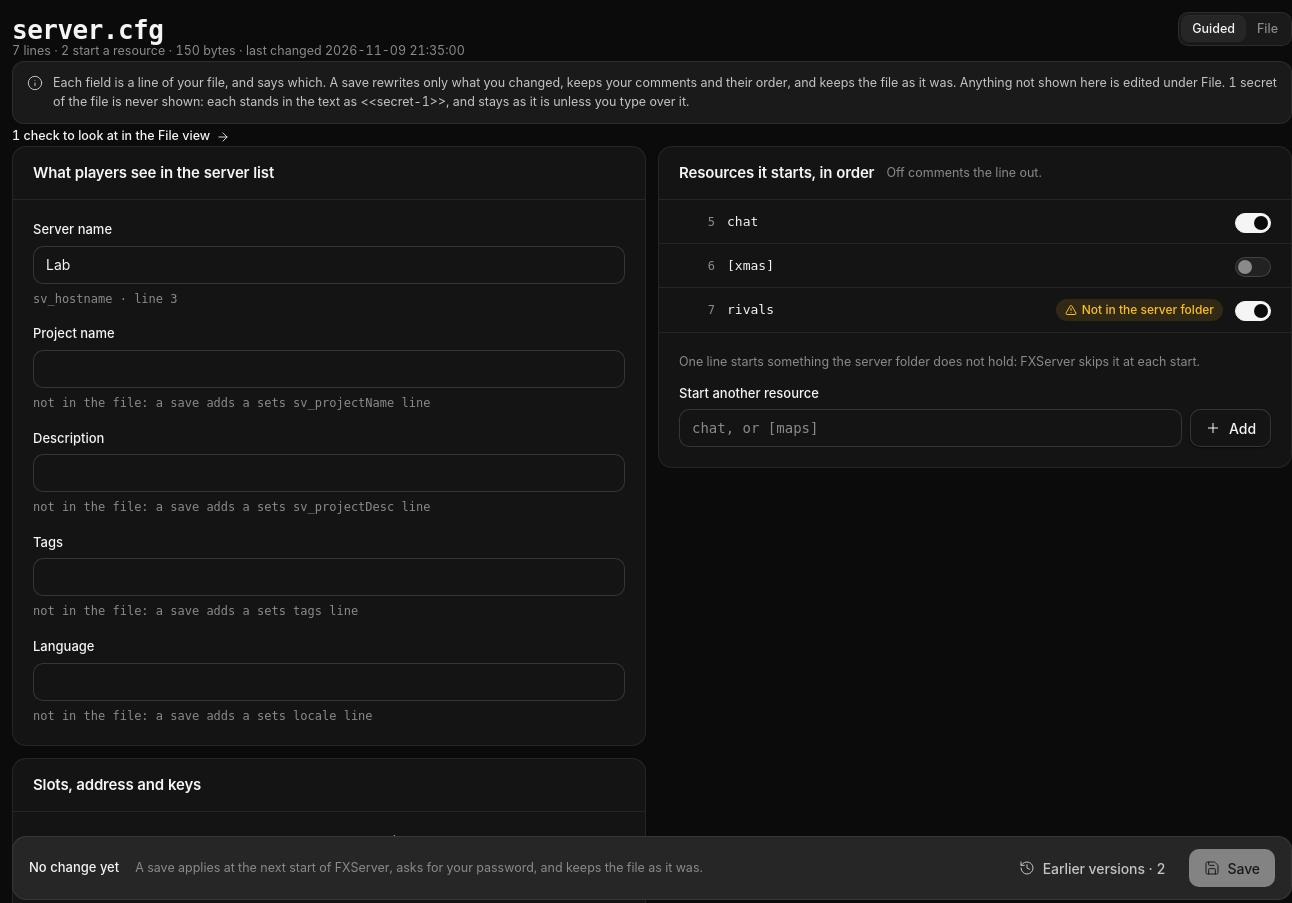
Test: CfgPage › should save the text with what the fields changed written into it, and nothing else
Replace the text in the field labelled "Server name" with "Café RP" at {"x": 329, "y": 264}, box [33, 246, 625, 284]
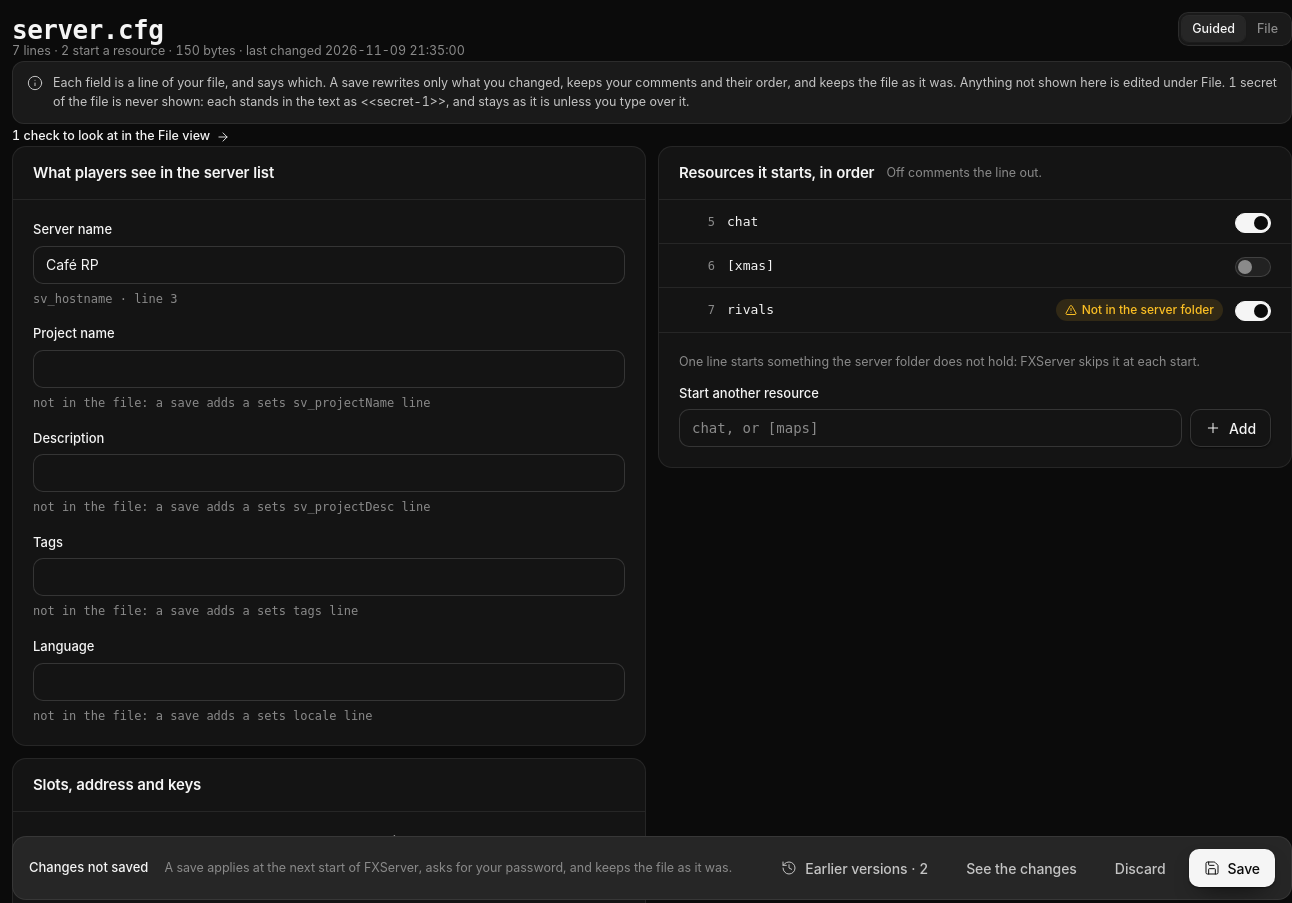
Click the switch named "Start [xmas]".
click(1253, 266)  # box [1235, 256, 1271, 276]
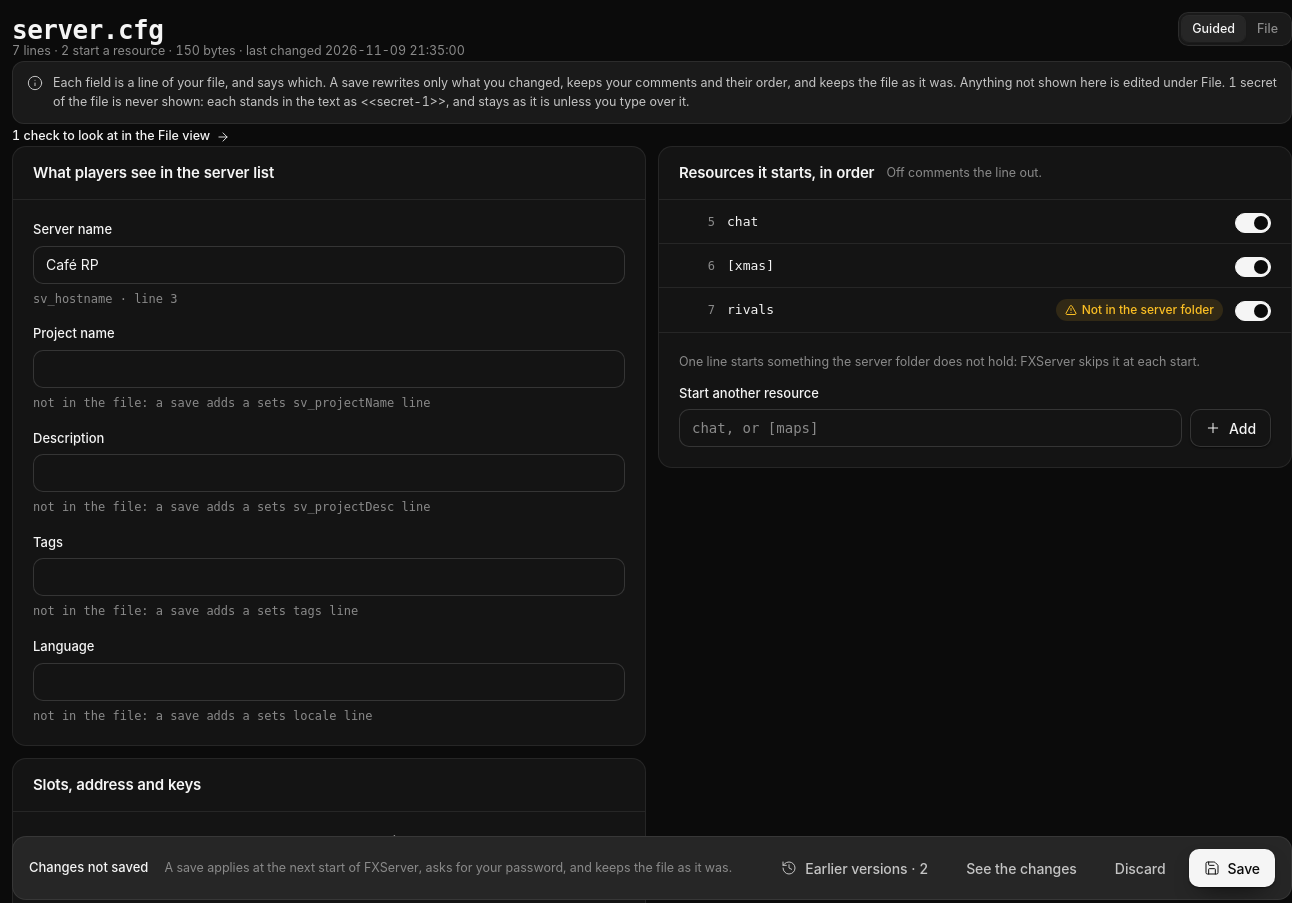
Click the switch named "Start rivals".
click(1253, 311)  # box [1235, 301, 1271, 321]
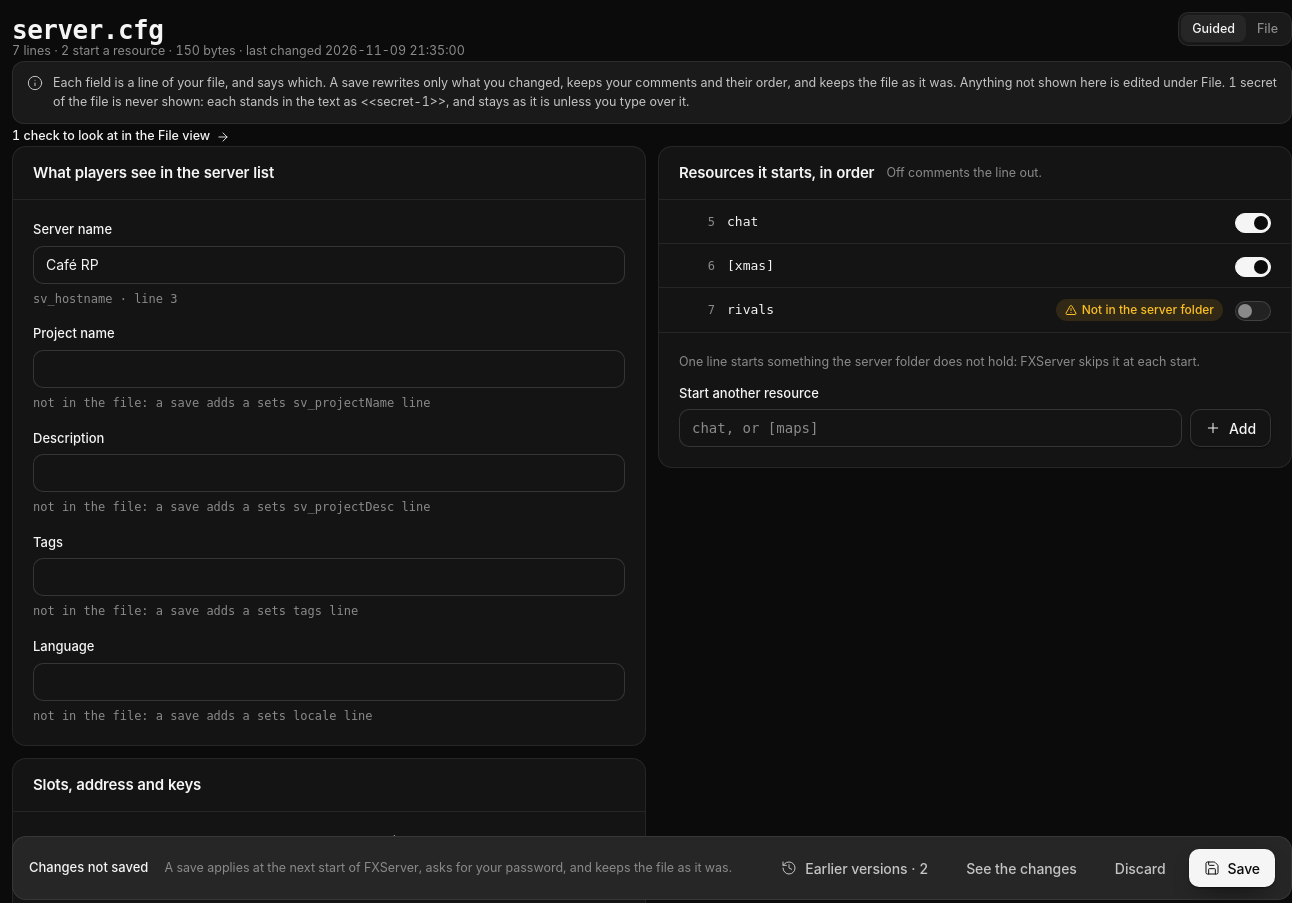
Type "[maps]" into the field labelled "Start another resource".
click(931, 428); type("[maps]")  # box [679, 409, 1182, 447]
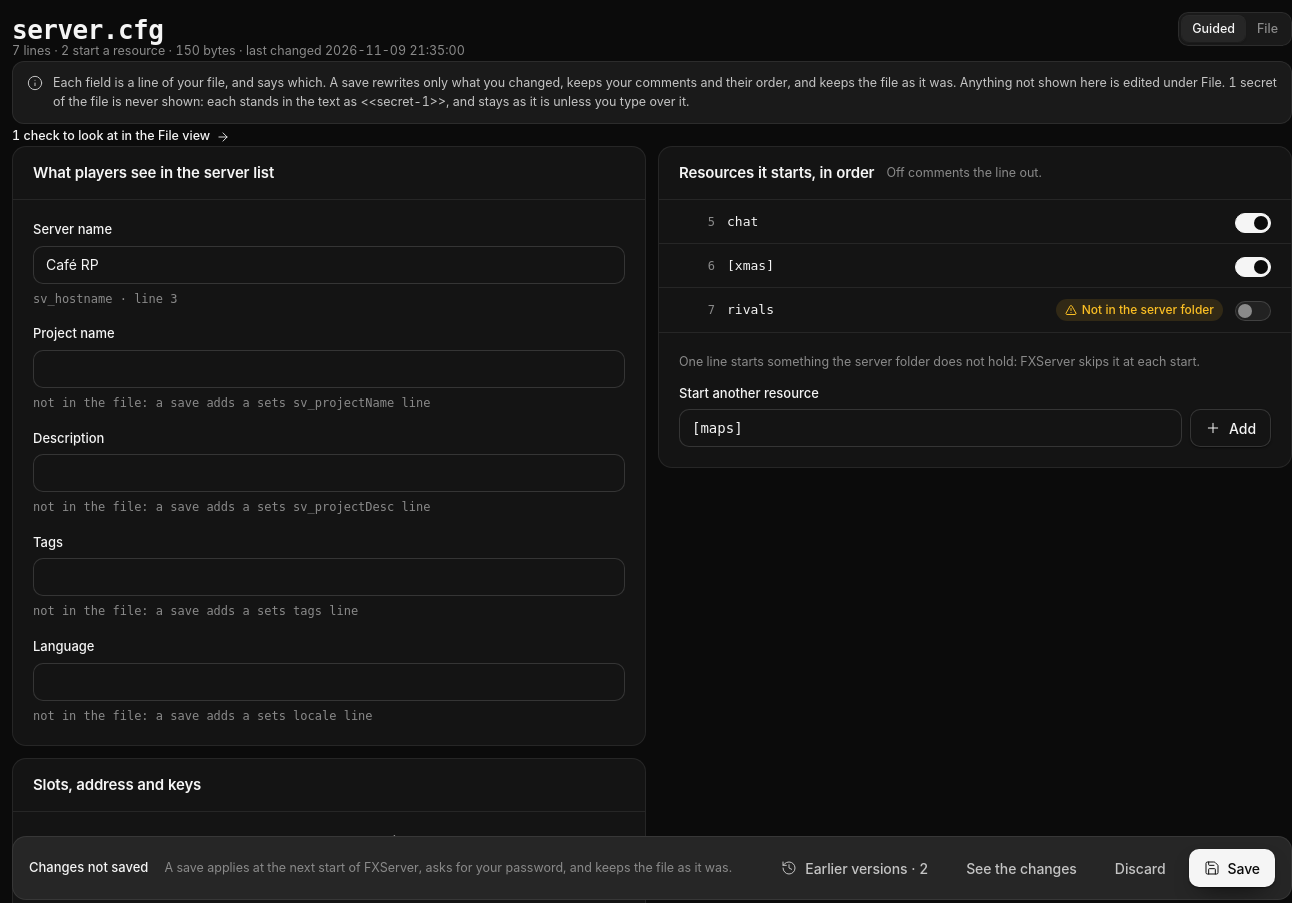
Click the button "Add".
click(1231, 428)  # box [1190, 409, 1271, 447]
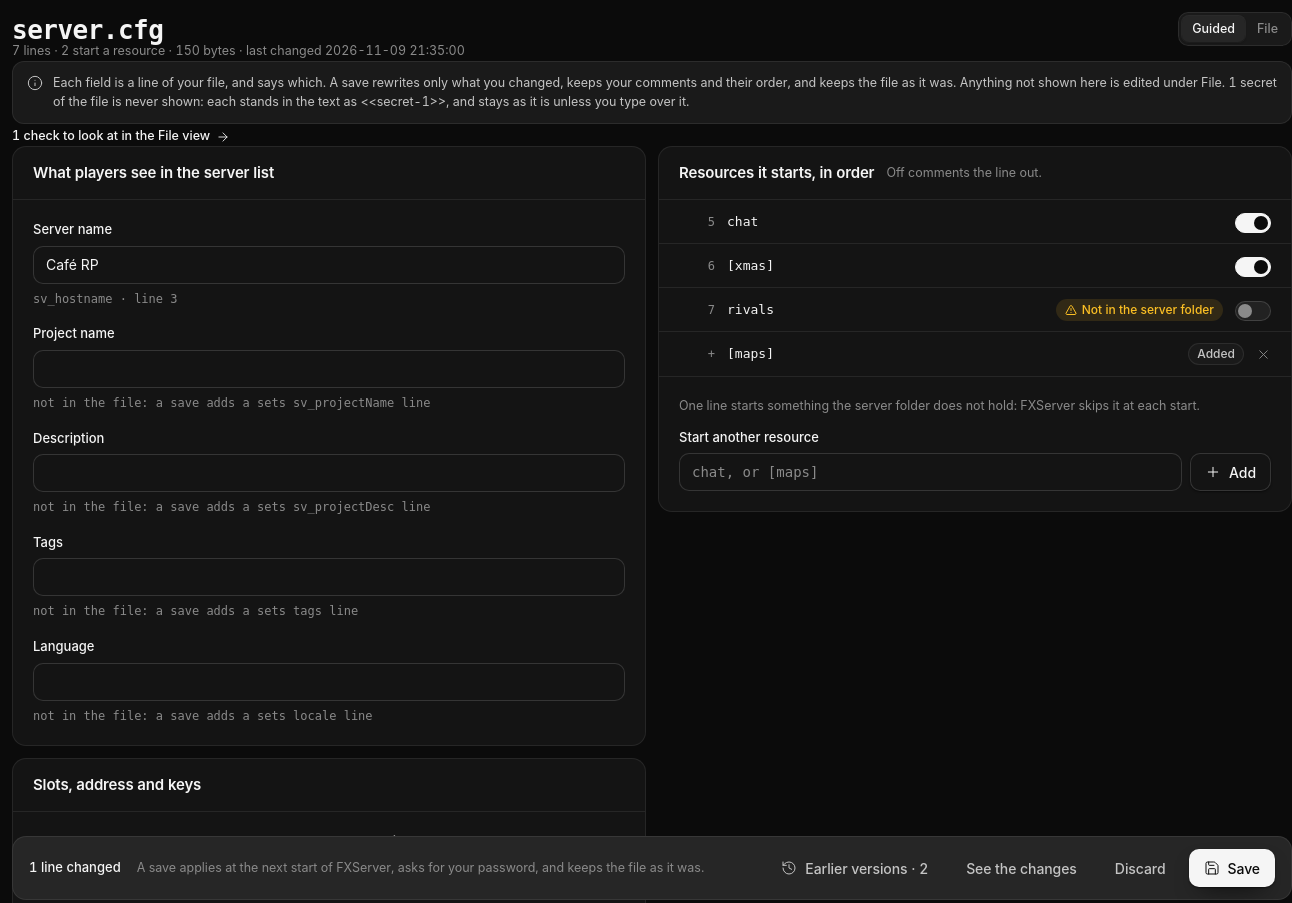
Click the button "Save".
click(1232, 868)  # box [1188, 849, 1275, 887]
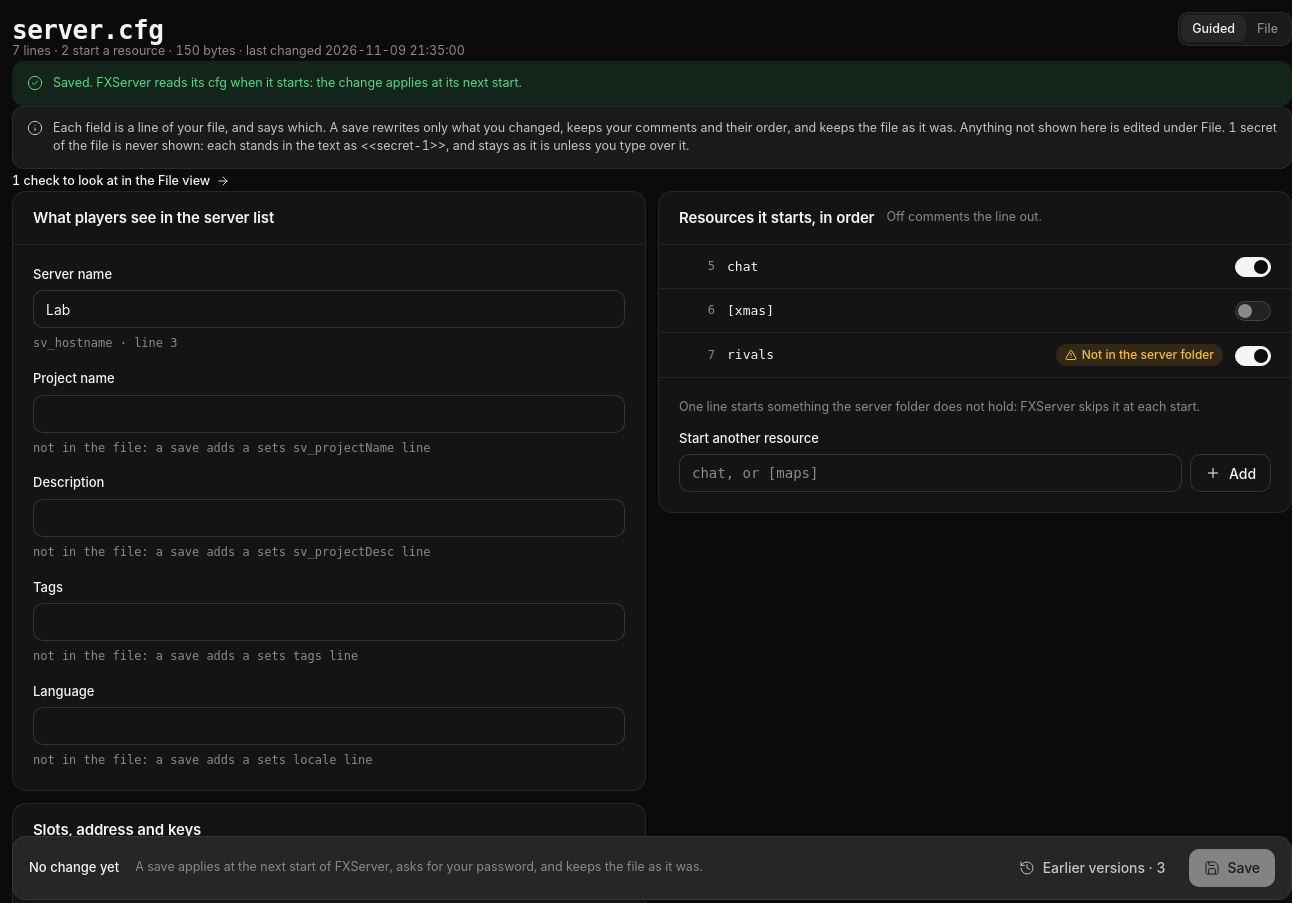
Now the text "Saved. FXServer reads its cfg when it starts: the change applies at its next start." is shown, box [53, 75, 522, 90]
